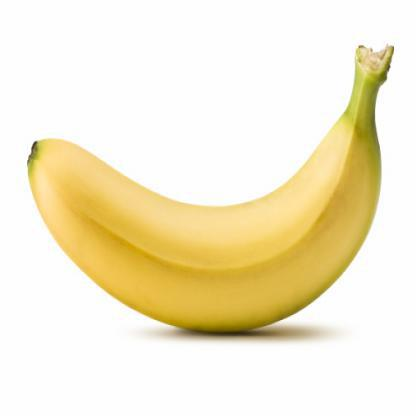banana: (18, 26, 402, 359)
